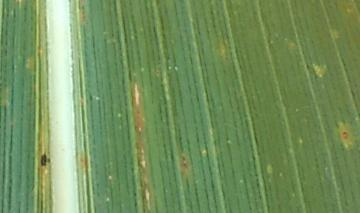tarspot: (38, 150, 52, 172), (340, 129, 350, 141)
